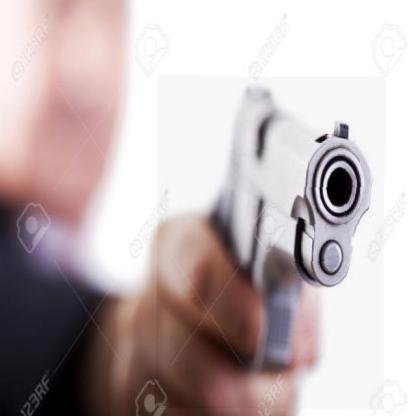handgun: (156, 76, 385, 409)
